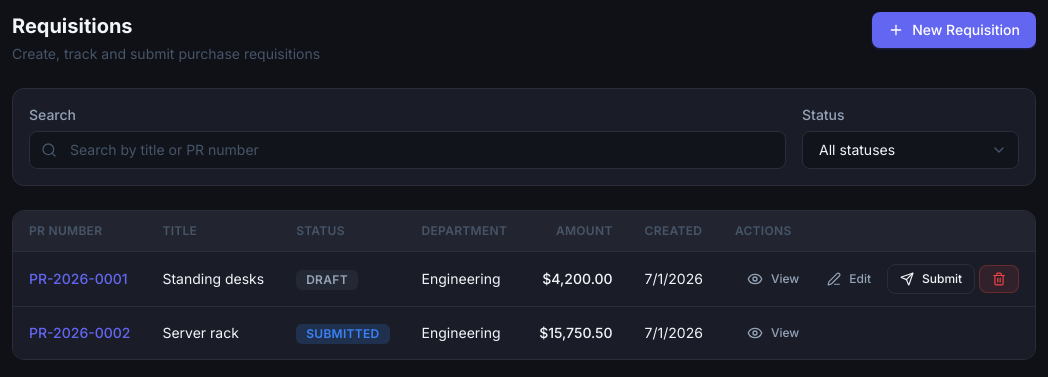
Test: RequisitionListPage › submits a draft through the requisition submit endpoint
The width and height of the screenshot is (1048, 377).
Click the button "Submit" at coordinates (931, 279), box [887, 264, 975, 294]
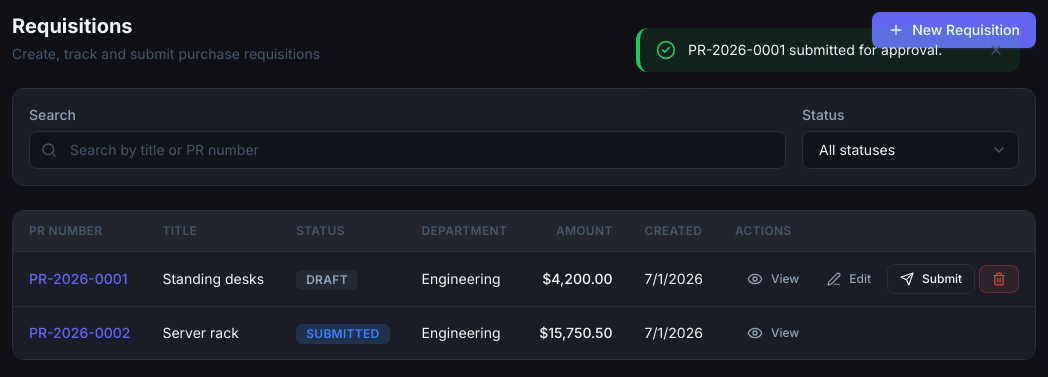
Result: the text "PR-2026-0001 submitted for approval." is shown at [688, 40, 976, 60]
